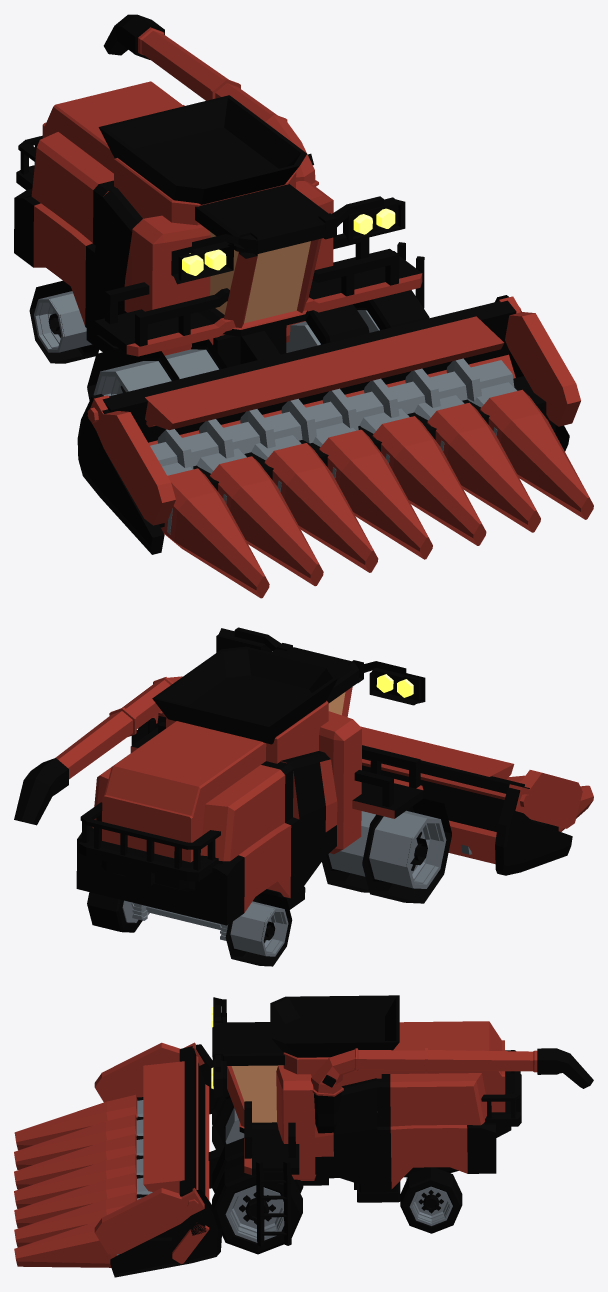
The model's file is combine_harvester_a.glb.
The picture shows the model from 3 angles, top to bottom: view 1: azimuth 30°, elevation 25°; view 2: azimuth 150°, elevation 25°; view 3: azimuth 270°, elevation 25°; orthographic projection. The views are drawn at different scales.
Parts seen in each view (by area): view 1: Cube.146_Red_0, Cube.038_Black.002_0, Cube.107_Red.002_0, Cube.106_Metal.002_0, Cube.002_Red.002_0, Cube.104_Black.002_0, Cube.001_Black.002_0, Cube.043_Red.002_0, Cube.036_Red.002_0, Cube.109_Red.002_0, Cube.110_Red.002_0, Cube.040_Red.002_0 (+25 smaller); view 2: Cube.036_Red.002_0, Cube.038_Black.002_0, Cube.002_Red.002_0, Cube.002_Black.002_0, Cube.048_Metal.002_0, Cube.104_Black.002_0, Cube.043_Red.002_0, Cube.112_Black.002_0, Cube.003_Black.002_0, Cube.040_Red.002_0, Cube.107_Red.002_0, Cube.109_Red.002_0 (+24 smaller); view 3: Cube.146_Red_0, Cube.002_Red.002_0, Cube.038_Black.002_0, Cube.107_Red.002_0, Cube.040_Red.002_0, Cube.003_Black.002_0, Cube.036_Red.002_0, Cube.110_Red.002_0, Cube.104_Black.002_0, Cube.043_Red.002_0, Cube.002_Black.002_0, Cube.008_Black.002_0 (+29 smaller).
Boxes of the visible parts, x1,y1,x2,y2 form: Cube.146_Red_0: (161,389,593,598); Cube.038_Black.002_0: (98,95,306,204); Cube.107_Red.002_0: (145,316,503,430); Cube.106_Metal.002_0: (150,358,514,469); Cube.002_Red.002_0: (31,105,184,326); Cube.104_Black.002_0: (102,300,516,442); Cube.001_Black.002_0: (195,184,328,336); Cube.043_Red.002_0: (132,181,333,355); Cube.036_Red.002_0: (42,81,183,173); Cube.109_Red.002_0: (87,395,175,525); Cube.110_Red.002_0: (499,296,580,426); Cube.040_Red.002_0: (138,27,318,186); Cube.036_Red.002_0: (102,721,266,862); Cube.038_Black.002_0: (152,646,338,744); Cube.002_Red.002_0: (92,746,291,912); Cube.002_Black.002_0: (76,739,299,925); Cube.048_Metal.002_0: (369,810,446,888); Cube.104_Black.002_0: (155,716,524,831); Cube.043_Red.002_0: (319,711,361,854); Cube.112_Black.002_0: (495,787,572,875); Cube.003_Black.002_0: (281,751,336,893); Cube.040_Red.002_0: (55,676,182,779); Cube.107_Red.002_0: (360,726,514,779); Cube.109_Red.002_0: (509,770,582,828); Cube.146_Red_0: (14,1094,137,1267); Cube.002_Red.002_0: (390,1073,486,1188); Cube.038_Black.002_0: (270,995,399,1057); Cube.107_Red.002_0: (143,1061,184,1193); Cube.040_Red.002_0: (311,1048,537,1096); Cube.003_Black.002_0: (315,1078,377,1189); Cube.036_Red.002_0: (381,1021,505,1112); Cube.110_Red.002_0: (94,1188,204,1254); Cube.104_Black.002_0: (179,1046,206,1235); Cube.043_Red.002_0: (276,1065,315,1180); Cube.002_Black.002_0: (376,1074,496,1189); Cube.008_Black.002_0: (212,1163,302,1254).
Bounding box in the file's own units: 507 × 293 × 812.
